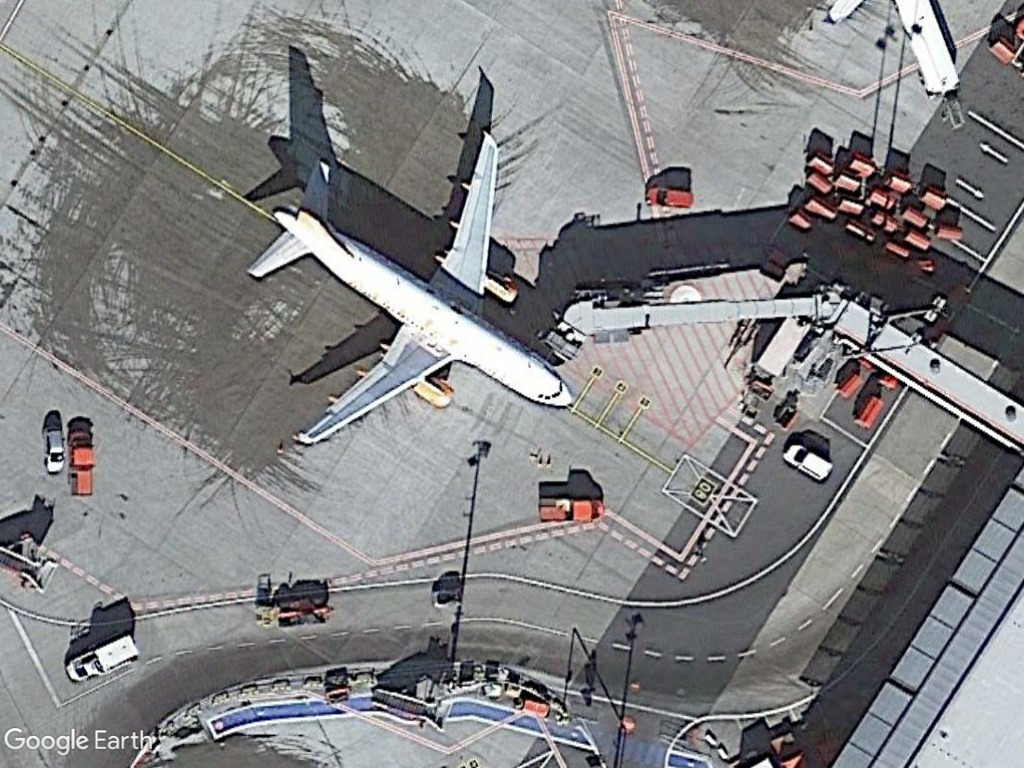airliner: (240, 118, 577, 449)
car: (42, 422, 69, 477)
van: (779, 440, 836, 488)
